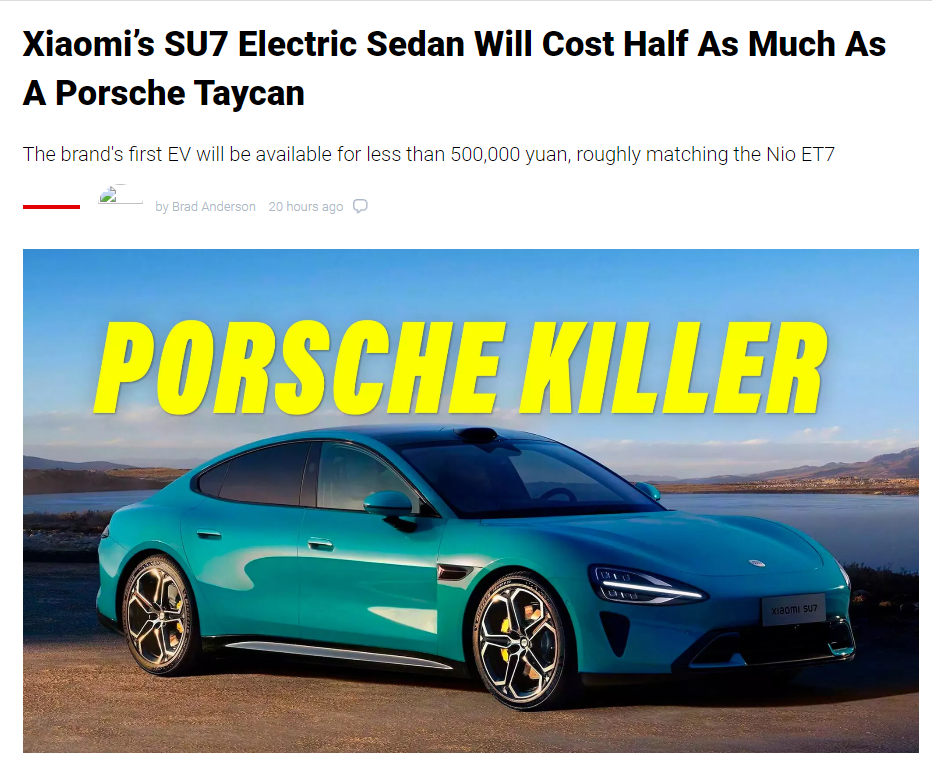su7: (85, 427, 862, 697)
